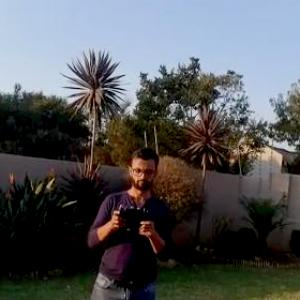follow: (84, 136, 180, 299)
